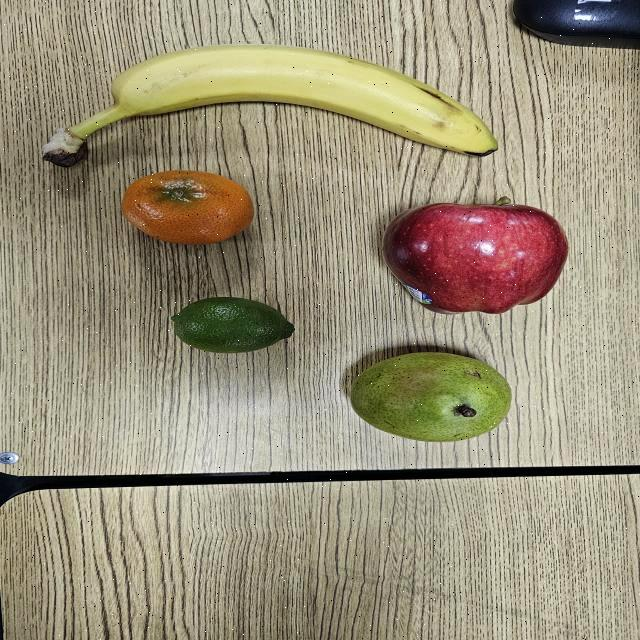Apel Merah: (352, 188, 606, 329)
Jeruk Mandarin: (115, 158, 301, 254)
Lemon: (143, 288, 320, 373)
Pir: (336, 351, 568, 464)
Pisang: (27, 32, 520, 178)
